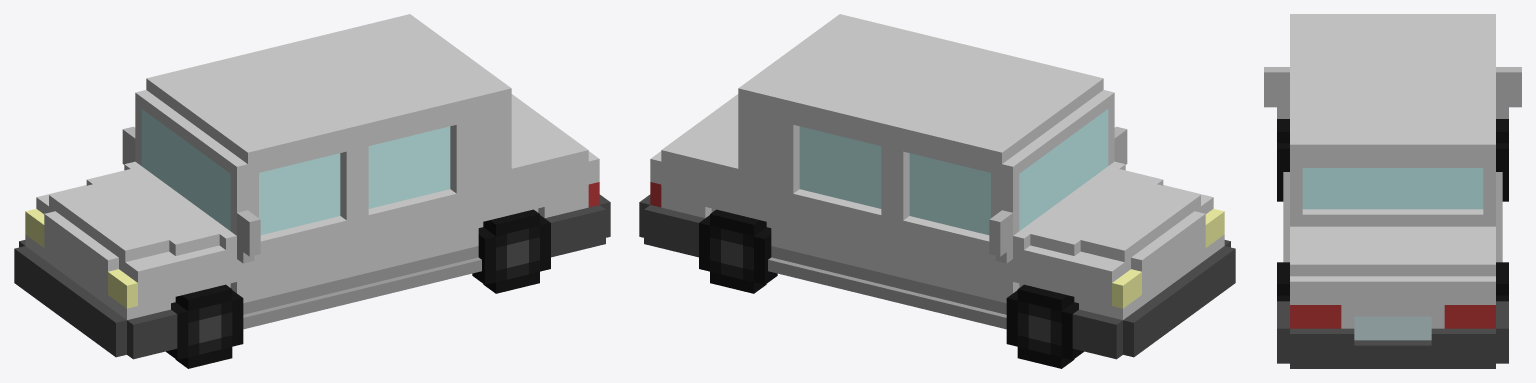
File: Car1.fbx
The picture shows the model from 3 angles, left to right: view 1: azimuth 30°, elevation 25°; view 2: azimuth 150°, elevation 25°; view 3: azimuth 270°, elevation 25°; orthographic projection.
Parts seen in each view (by area): view 1: Untitled.023; view 2: Untitled.023; view 3: Untitled.023.
Boxes of the visible parts, x1,y1,x2,y2 form: Untitled.023: [14, 14, 610, 368]; Untitled.023: [639, 14, 1235, 368]; Untitled.023: [1264, 14, 1521, 368].
Bounding box in the file's own units: 900 × 340 × 400.
Materials: 1 (1 with a texture image).
